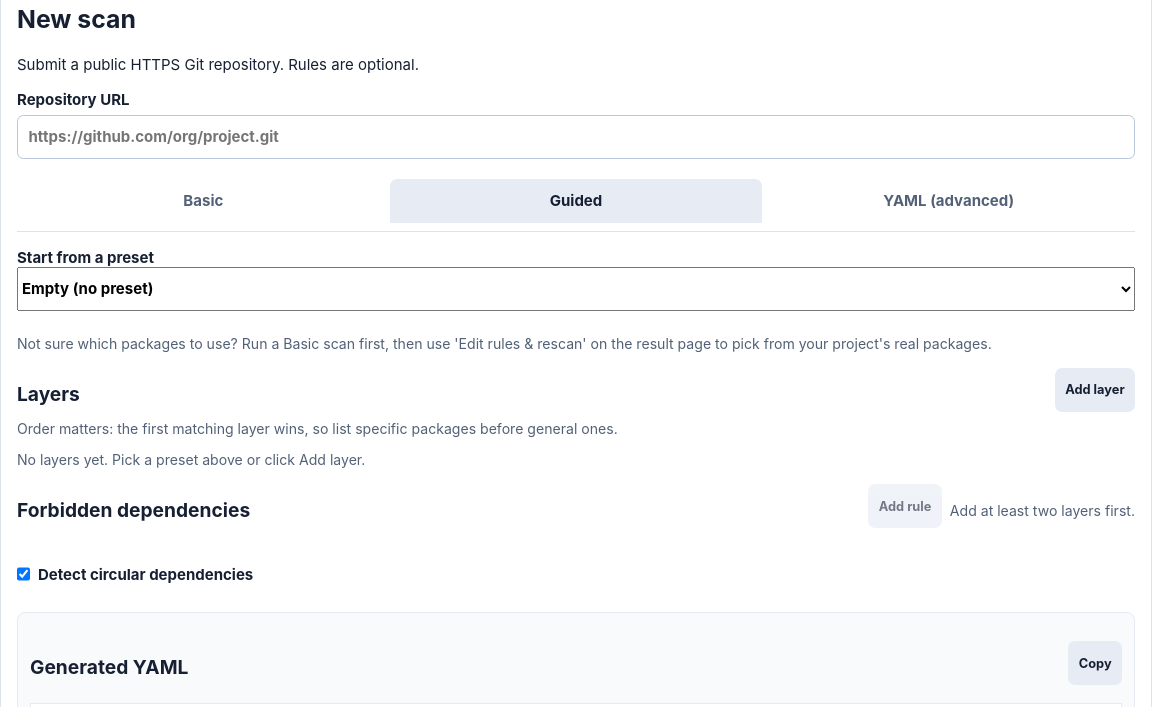
ScanForm › disables submit when the guided model is invalid
Type "https://github.com/acme/app.git" into the field labelled "Repository URL" at (576, 137), box [17, 115, 1135, 159]
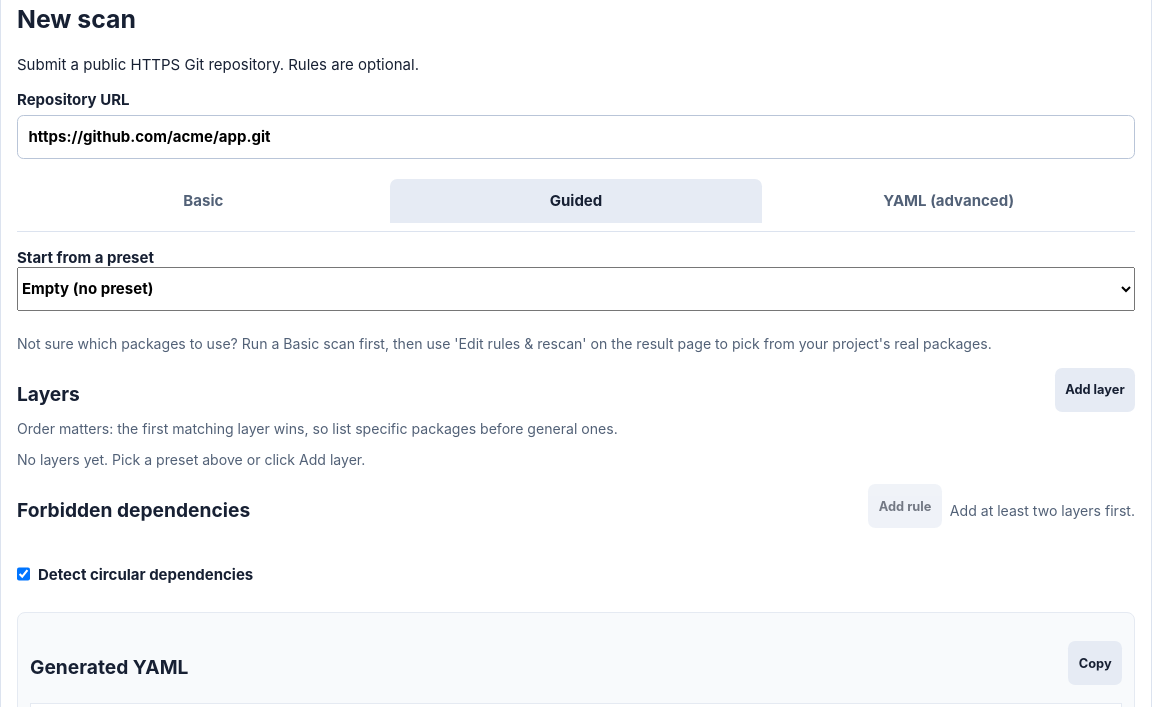
Click the button "Add layer" at (1095, 390), box [1055, 368, 1135, 412]
(page scrolled)
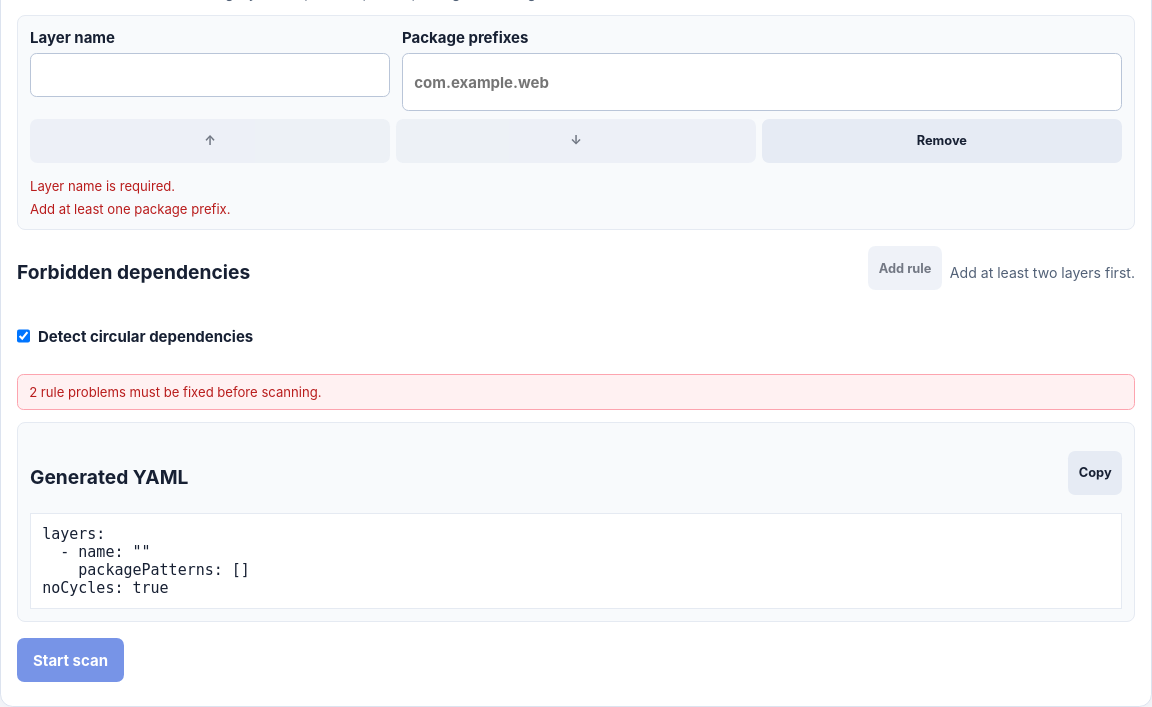
Expected: the button "Start scan" is disabled, [17, 638, 124, 682]
